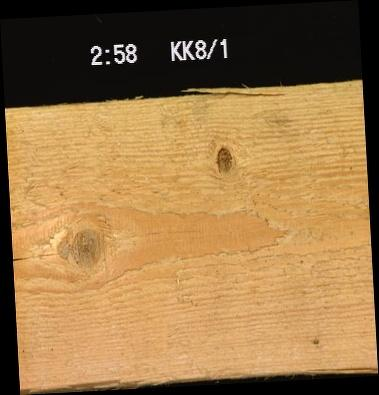dry_knot: (215, 146, 232, 174)
sound_knot: (68, 227, 101, 267)
split: (12, 252, 61, 261)
